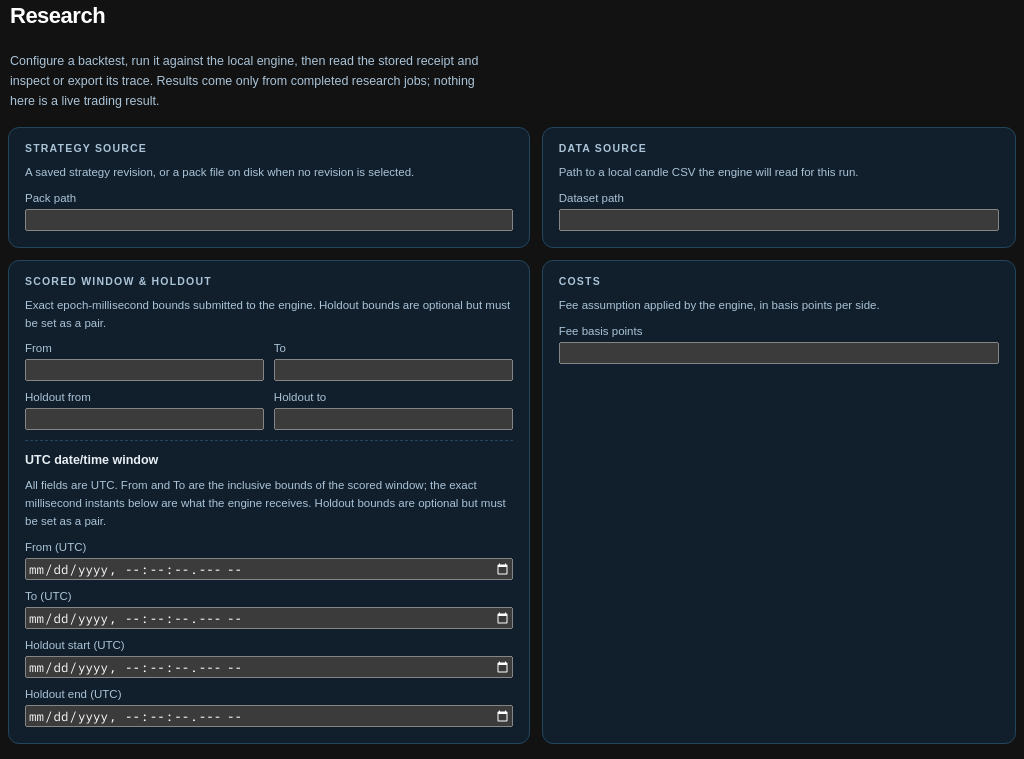
ResearchView holdout bounds (issue149: finite safe integer before submit) › one blank holdout field still refuses with the existing both-bounds message
Type "fixtures/synthetic.csv" into the field labelled "Dataset path". click: x=779, y=220
box: [559,209,999,231]
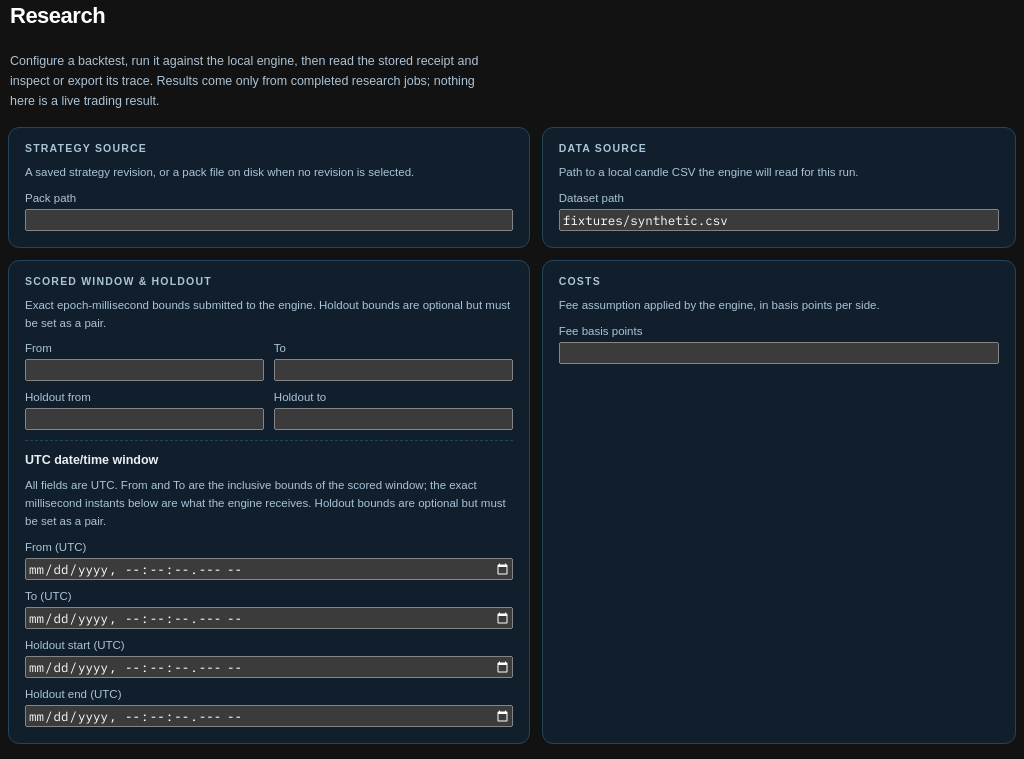
Type "40" into the field labelled "Fee basis points". click: x=779, y=353
box: [559,342,999,364]
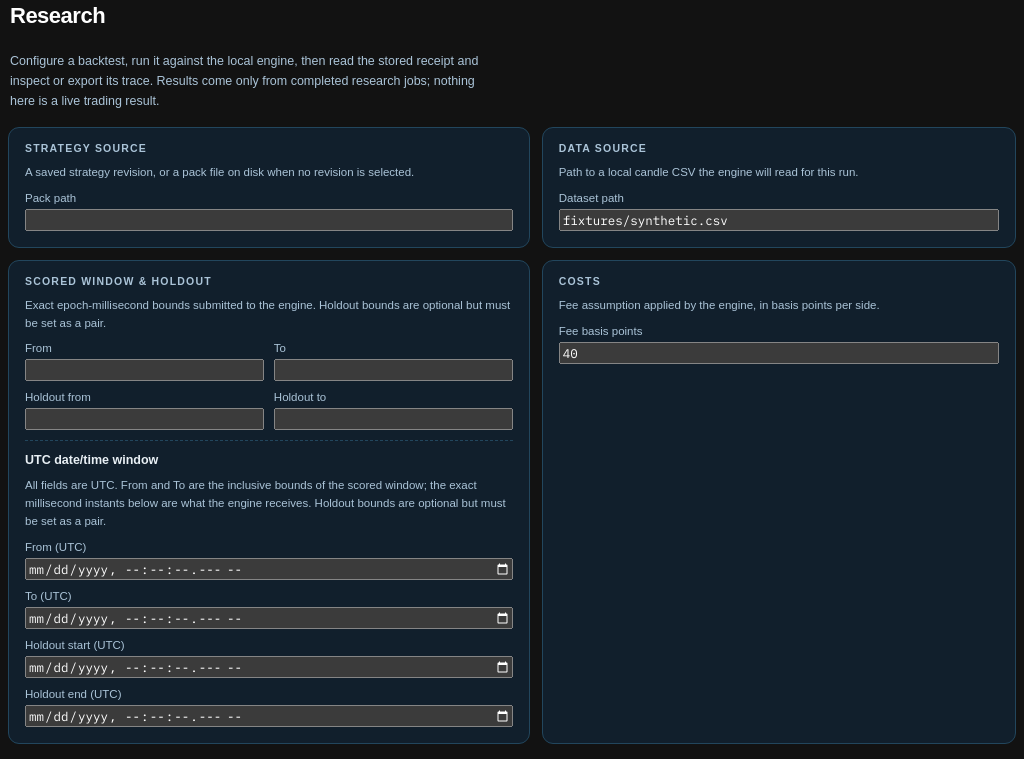
Type "0" into the field labelled "From". click: x=144, y=370
box: [25,359,264,381]
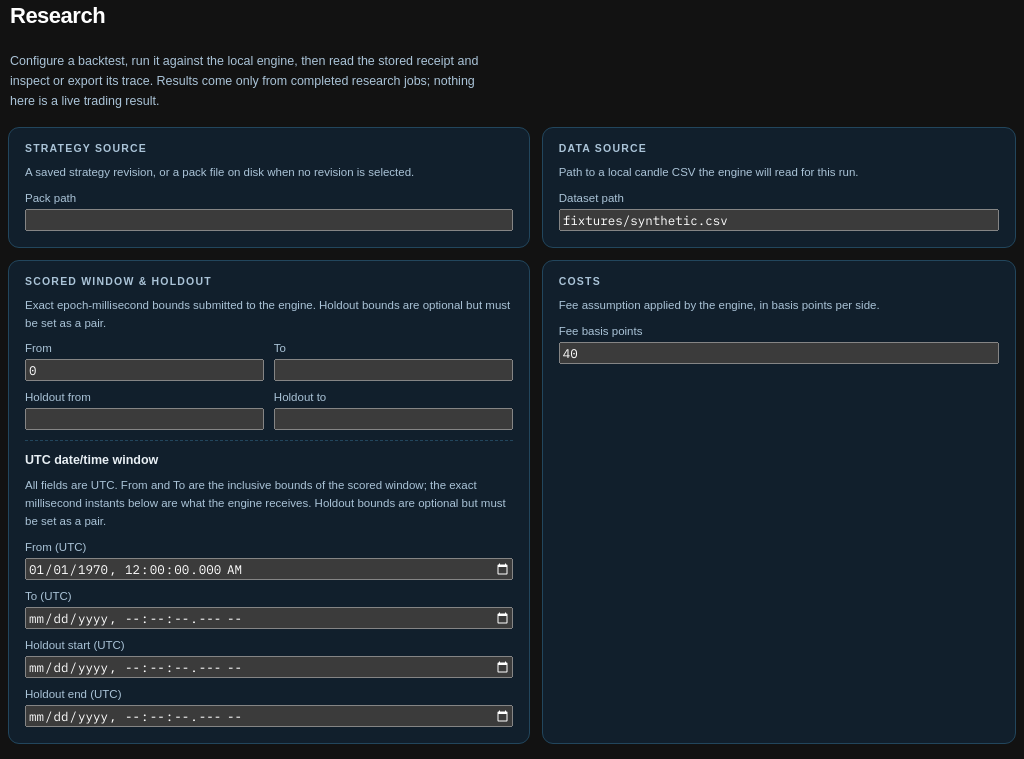
Type "1000" into the field labelled "To". click: x=393, y=370
box: [274,359,513,381]
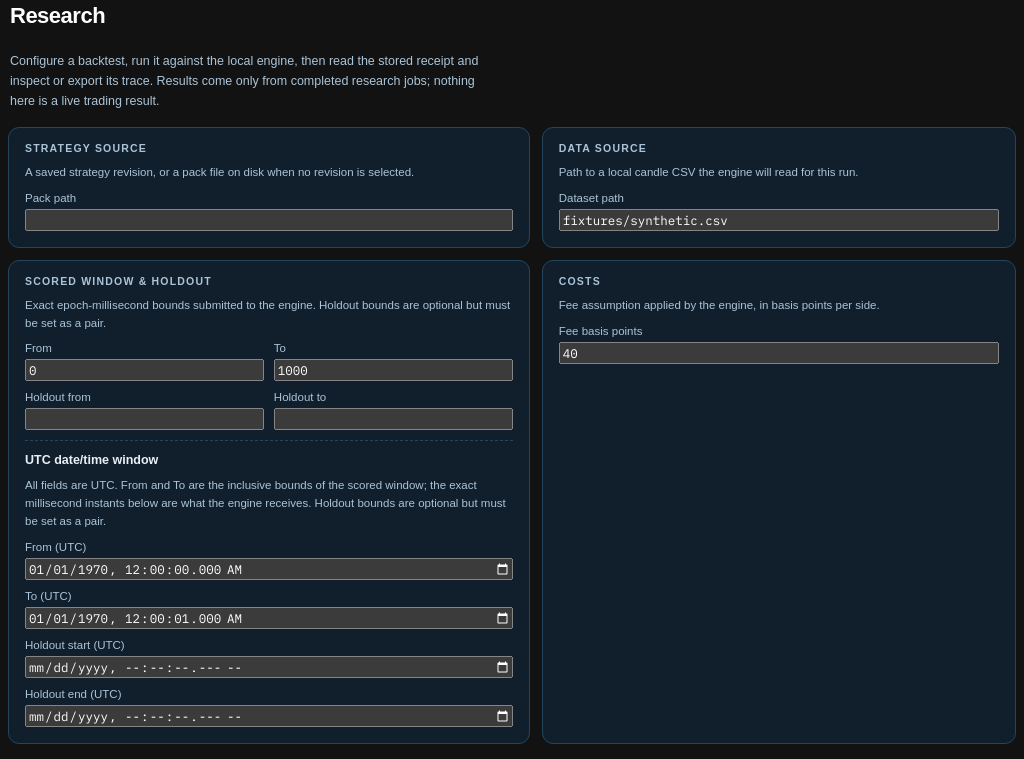
Type "500" into the field labelled "Holdout from". click: x=144, y=419
box: [25,408,264,430]
(page scrolled)
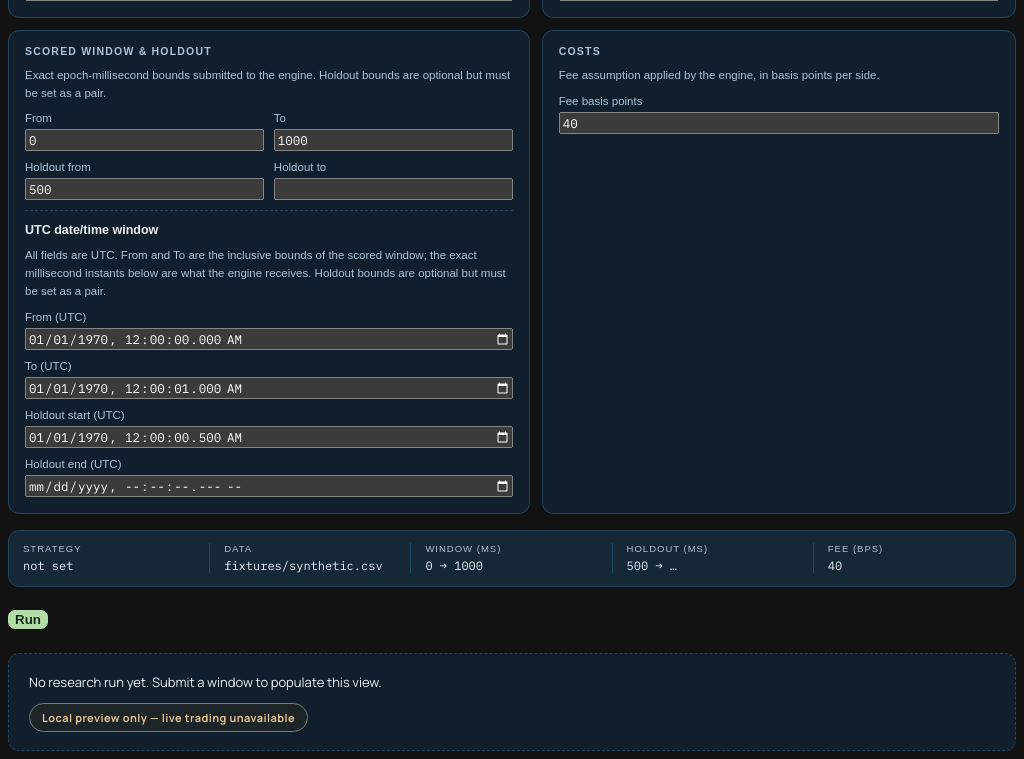
Click the button "Run". click: x=28, y=620
box: [8,610,48,629]
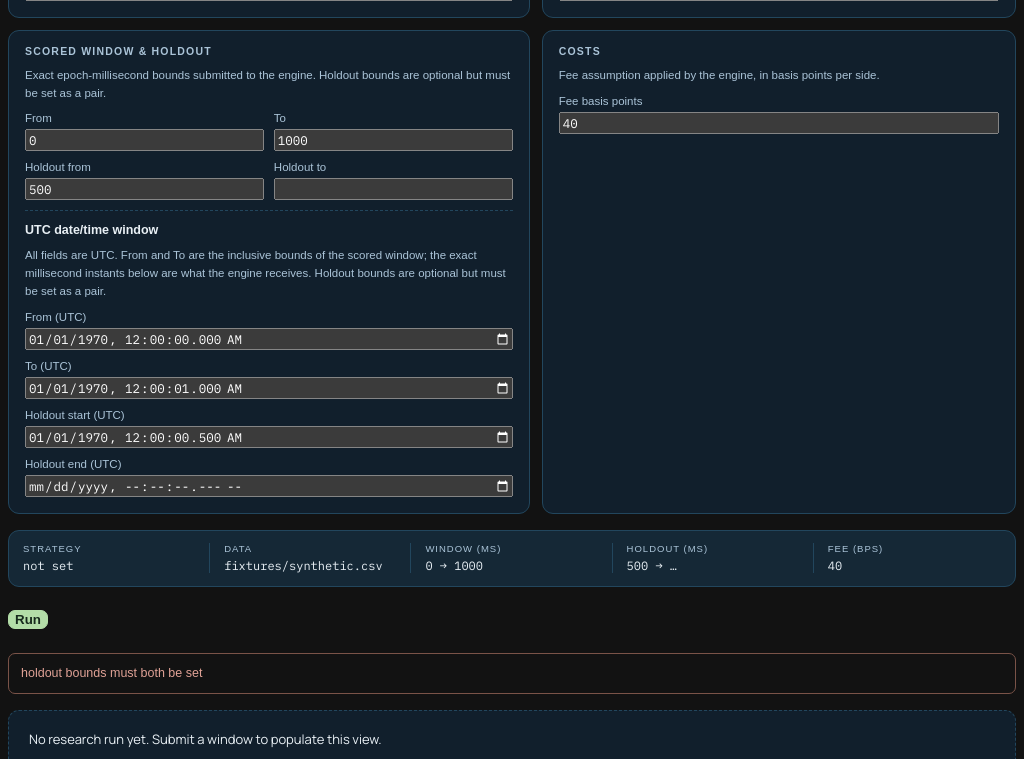
Check: the message reads "holdout bounds must both be set", box [21,666,202,680]
